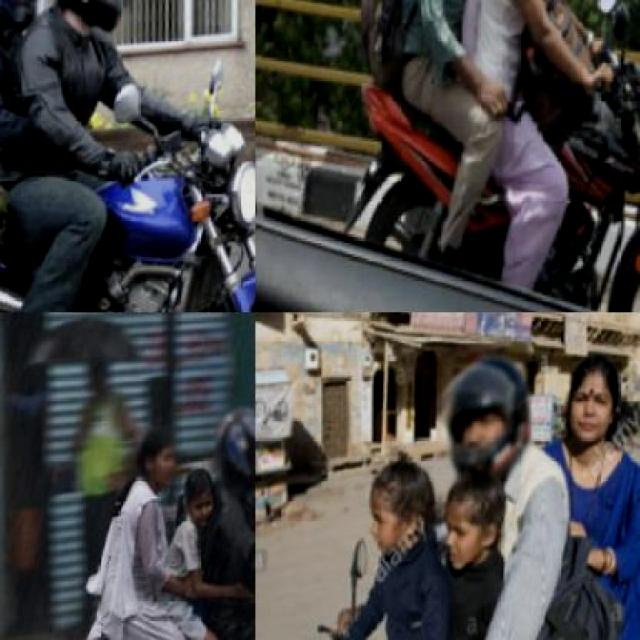With Helmet: (428, 341, 548, 487), (209, 395, 254, 503), (46, 0, 149, 46)
Without Helmet: (559, 348, 635, 463), (136, 422, 187, 482), (183, 466, 225, 520)
